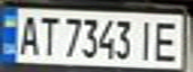3: (78, 16, 100, 60), (115, 17, 136, 61)
4: (97, 16, 118, 60)
7: (60, 14, 81, 58)
A: (15, 11, 42, 56)
E: (151, 18, 184, 63)
I: (133, 17, 157, 62)
T: (36, 12, 60, 56)
